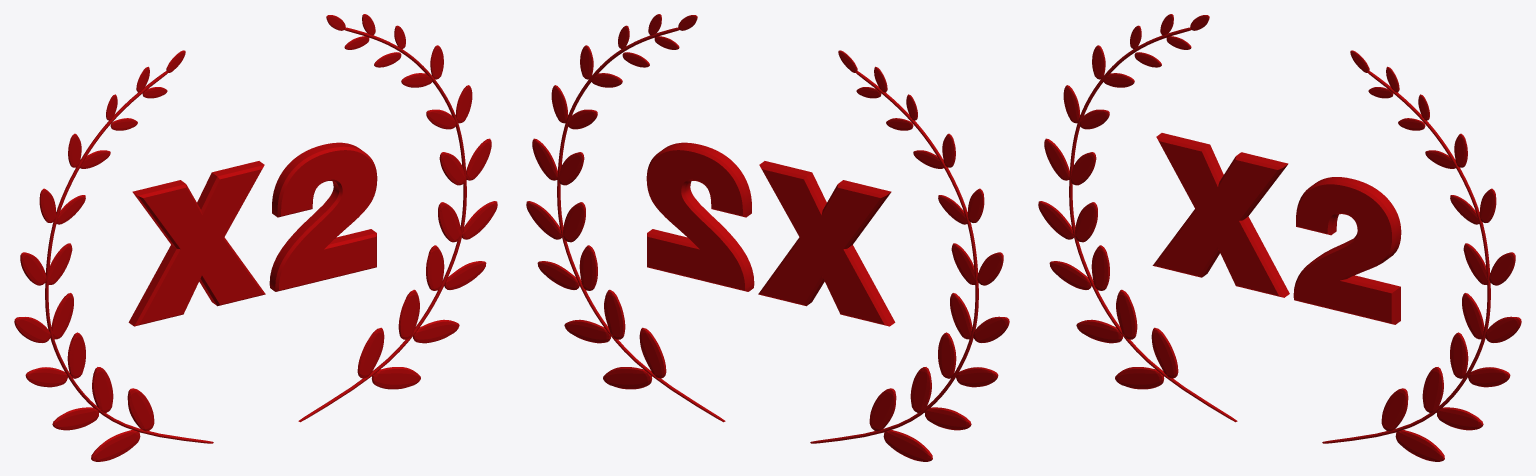
Rendered from PUP-X2_old.glb.
The picture shows the model from 3 angles, left to right: view 1: azimuth 30°, elevation 25°; view 2: azimuth 150°, elevation 25°; view 3: azimuth 330°, elevation 25°; orthographic projection.
Visible parts, largest first — view 1: typeMesh2, pCylinder3, pCylinder2; view 2: typeMesh2, pCylinder3, pCylinder2; view 3: typeMesh2, pCylinder2, pCylinder3.
Part boxes in pixels (x1,y1,x2,y2): typeMesh2: [128, 142, 377, 326]; pCylinder3: [298, 14, 497, 422]; pCylinder2: [14, 50, 213, 461]; typeMesh2: [646, 142, 895, 326]; pCylinder3: [526, 14, 725, 422]; pCylinder2: [810, 50, 1009, 461]; typeMesh2: [1152, 133, 1401, 324]; pCylinder2: [1038, 14, 1237, 422]; pCylinder3: [1322, 50, 1521, 461].
Size of the model in its own units: 626 by 495 by 19.25.
